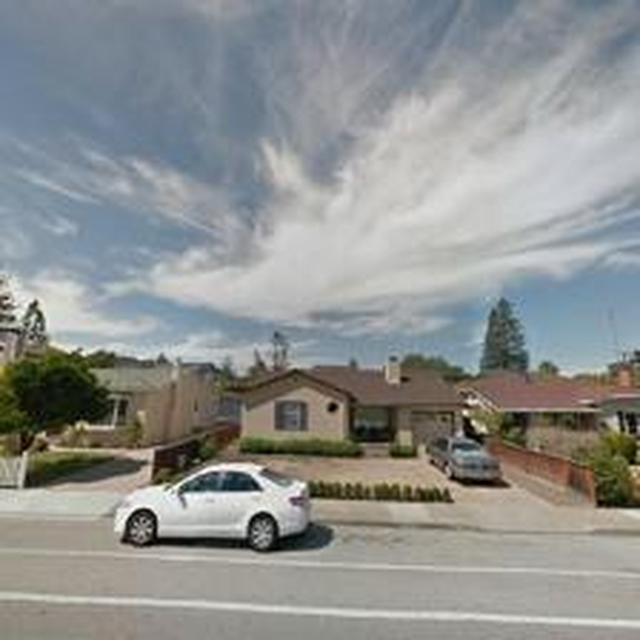building: (241, 361, 463, 452), (63, 362, 223, 450), (466, 368, 640, 448)
